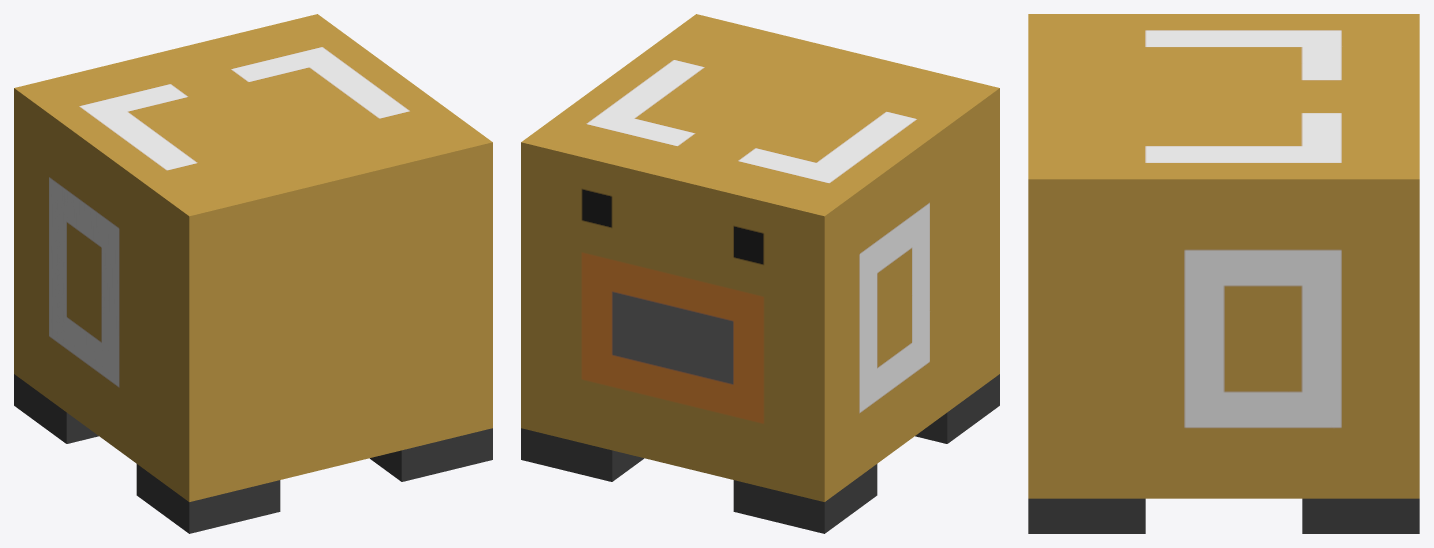
The model's file is Character_6.fbx.
3 views of the same model, side by side, from view 1: azimuth 30°, elevation 25°; view 2: azimuth 150°, elevation 25°; view 3: azimuth 270°, elevation 25° (orthographic). The views are drawn at different scales.
Parts seen in each view (by area): view 1: Character_6; view 2: Character_6; view 3: Character_6.
Boxes of the visible parts, left/top/right/bottom form: Character_6: left=14, top=14, right=492, bottom=533; Character_6: left=521, top=14, right=999, bottom=533; Character_6: left=1028, top=14, right=1419, bottom=533.
Bounding box in the file's own units: 10 × 10 × 10.
Materials: 1 (1 with a texture image).
